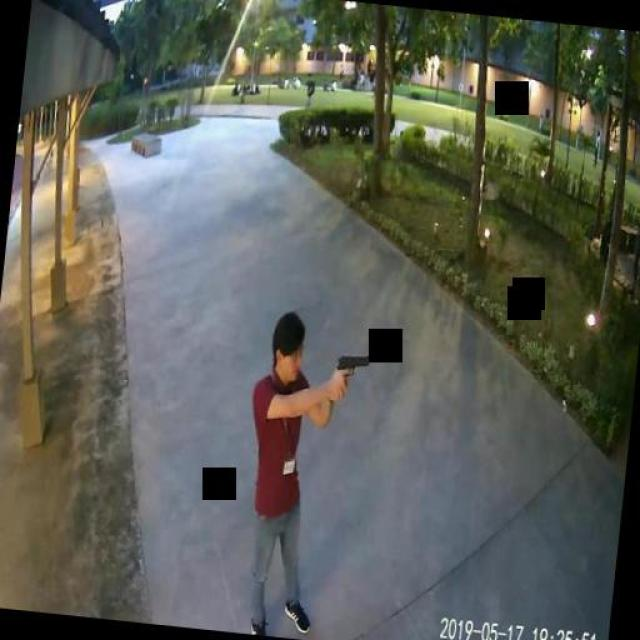gun: (334, 351, 370, 395)
